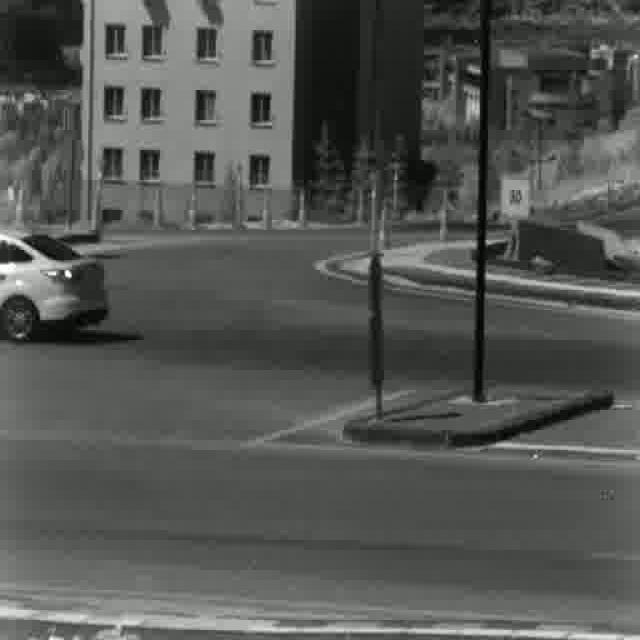Car: (0, 229, 107, 339)
